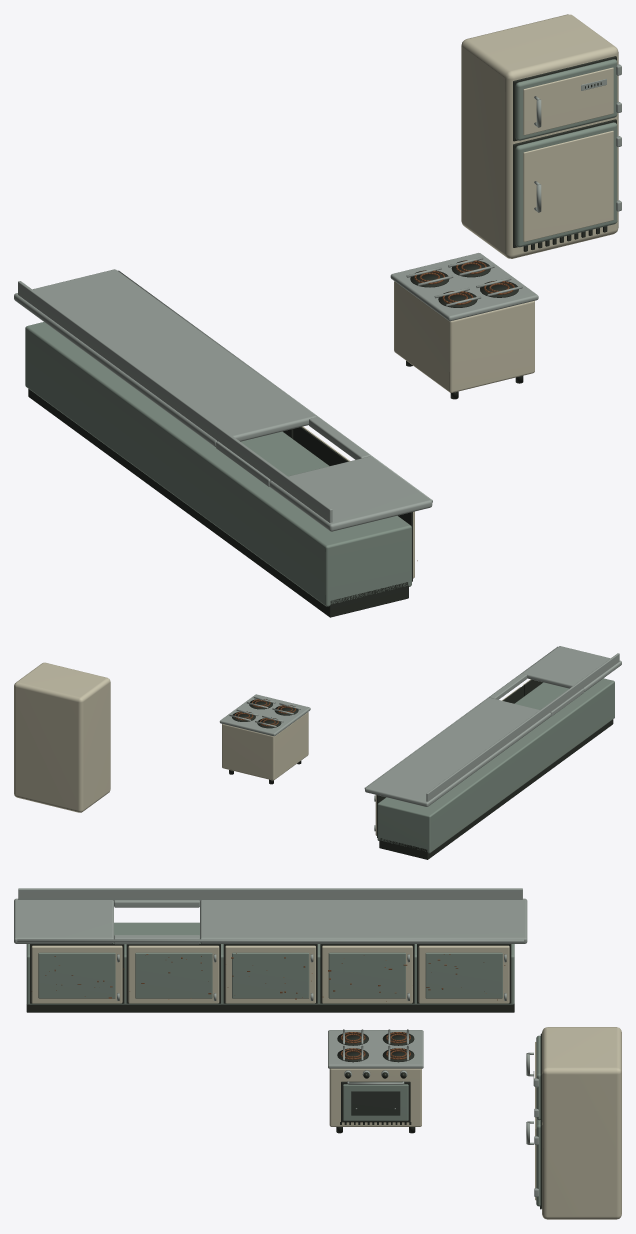
File: industrial-kitchen.glb
3 renders of one model, top to bottom at view 1: azimuth 30°, elevation 25°; view 2: azimuth 150°, elevation 25°; view 3: azimuth 270°, elevation 25°, orthographic. The views are drawn at different scales.
Parts seen in each view (by area): view 1: Yellowed ivory enamel, Chipped hospital green enamel, Hand polished worktops, Brushed greasy steel, Black rubber seals and soot, Oxidised exposed steel; view 2: Yellowed ivory enamel, Chipped hospital green enamel, Hand polished worktops, Brushed greasy steel, Black rubber seals and soot, Oxidised exposed steel; view 3: Yellowed ivory enamel, Hand polished worktops, Water damaged cabinet panels, Brushed greasy steel, Black rubber seals and soot, Chipped hospital green enamel, Smoked oven glass, Oxidised exposed steel.
Part boxes in pixels (bbox=[...]): Yellowed ivory enamel: bbox=[302, 14, 618, 578]; Chipped hospital green enamel: bbox=[25, 59, 617, 606]; Hand polished worktops: bbox=[14, 269, 432, 531]; Brushed greasy steel: bbox=[18, 64, 621, 522]; Black rubber seals and soot: bbox=[28, 56, 616, 617]; Oxidised exposed steel: bbox=[414, 260, 514, 560]; Yellowed ivory enamel: bbox=[14, 662, 530, 835]; Chipped hospital green enamel: bbox=[377, 678, 614, 853]; Hand polished worktops: bbox=[365, 646, 621, 806]; Brushed greasy steel: bbox=[219, 646, 619, 831]; Black rubber seals and soot: bbox=[229, 679, 613, 859]; Oxidised exposed steel: bbox=[234, 699, 295, 726]; Yellowed ivory enamel: bbox=[31, 945, 621, 1219]; Hand polished worktops: bbox=[14, 898, 527, 944]; Water damaged cabinet panels: bbox=[38, 952, 502, 998]; Brushed greasy steel: bbox=[17, 888, 538, 1196]; Black rubber seals and soot: bbox=[26, 943, 542, 1209]; Chipped hospital green enamel: bbox=[26, 922, 540, 1206]; Smoked oven glass: bbox=[351, 1091, 400, 1115]; Oxidised exposed steel: bbox=[31, 953, 505, 1059].
Size of the model in its own units: 6.85 by 2 by 7.23.
